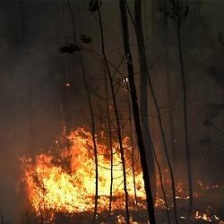fire: (19, 127, 167, 217)
